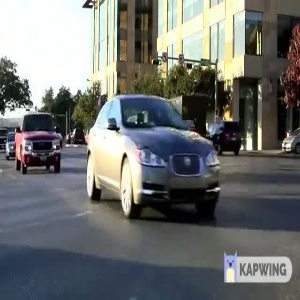car: (80, 90, 213, 223)
suv: (211, 118, 245, 153)
truck: (10, 109, 63, 184)
